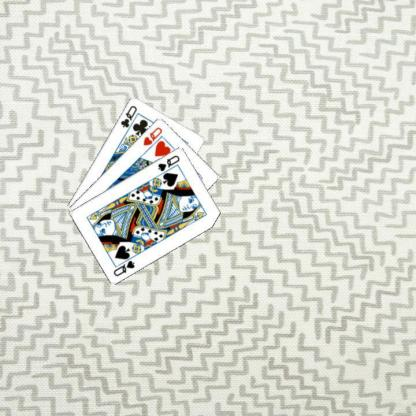QC: (118, 103, 138, 129)
QH: (140, 124, 164, 147)
QS: (155, 153, 181, 172), (111, 258, 136, 277)
